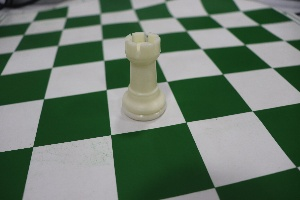white_rook: (101, 13, 174, 126)
